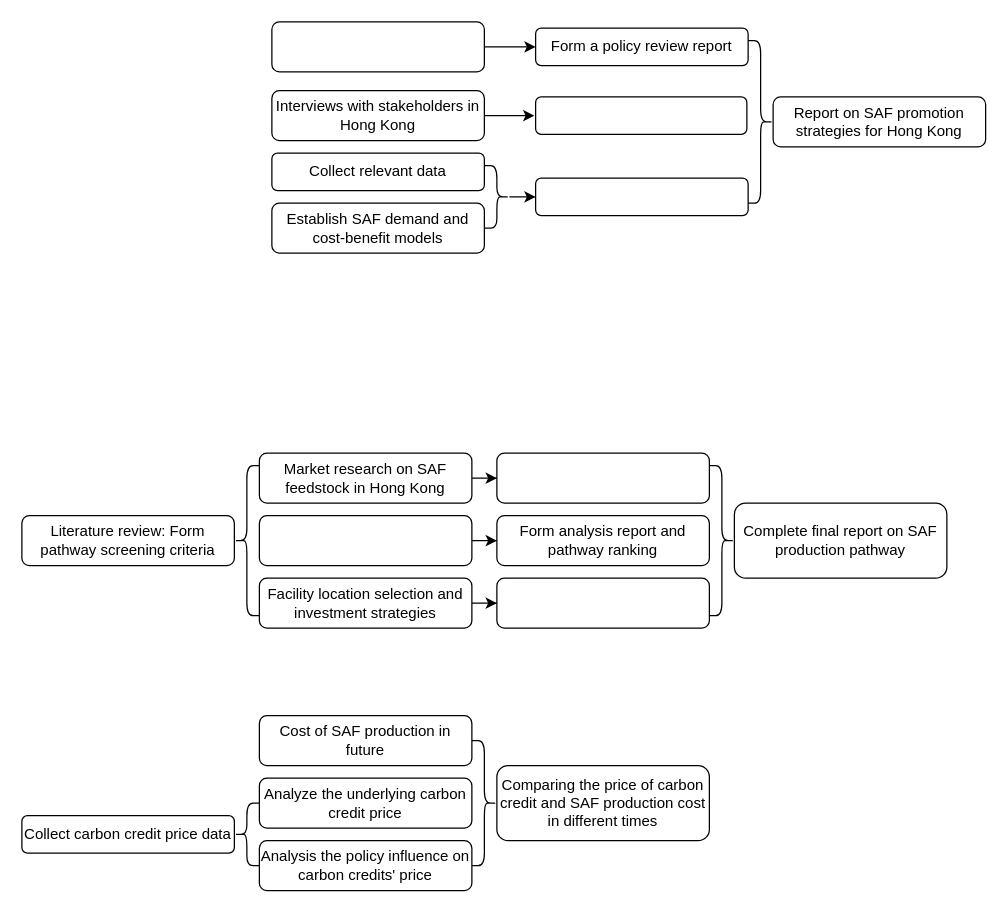
Some shapes in this 1008 by 913 pixel diagram are drawn without their labels. The shapes that lost their labels are listed below. From the top down, each one's box as (x1, y1, x2, y2) in pixels, then its label:
(271, 21, 484, 72): Global and local policy literature retrieval and analysis
(534, 96, 747, 134): Qualitative analysis report
(534, 177, 748, 216): Estimate different policy scenarios
(496, 452, 709, 503): Supply and price analysis report
(258, 514, 472, 566): Assess technical and economic feasibility of key pathways
(496, 577, 709, 628): Propose actionable strategic recommendations
